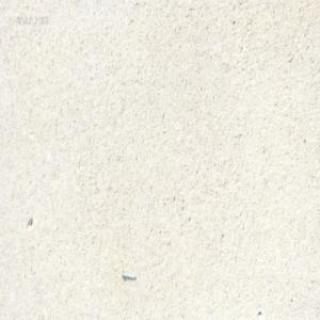Nailtrack_idkeyframe: (120, 269, 136, 279)
